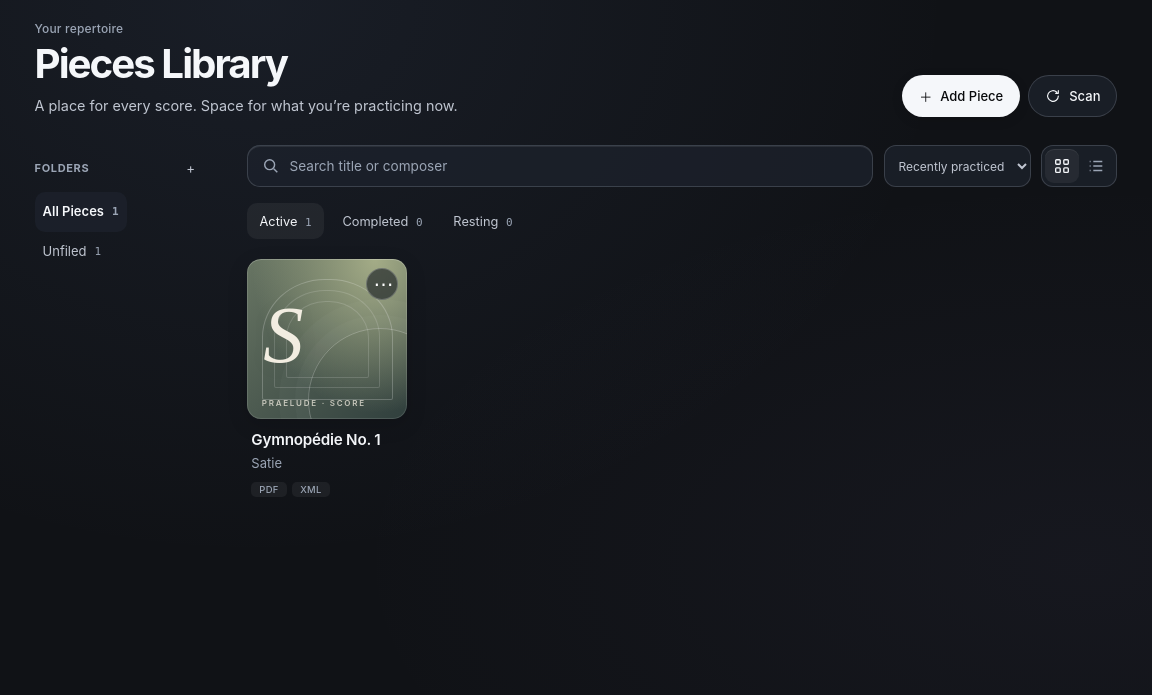
PiecesPanel › shows summary + block form (not intake) for a piece with intake done
Expected: the text "Gymnopédie No. 1" is shown, [251,430,403,450]
Click the button with aria-label "Open Gymnopédie No. 1".
click(327, 381)  # box [247,260,407,503]
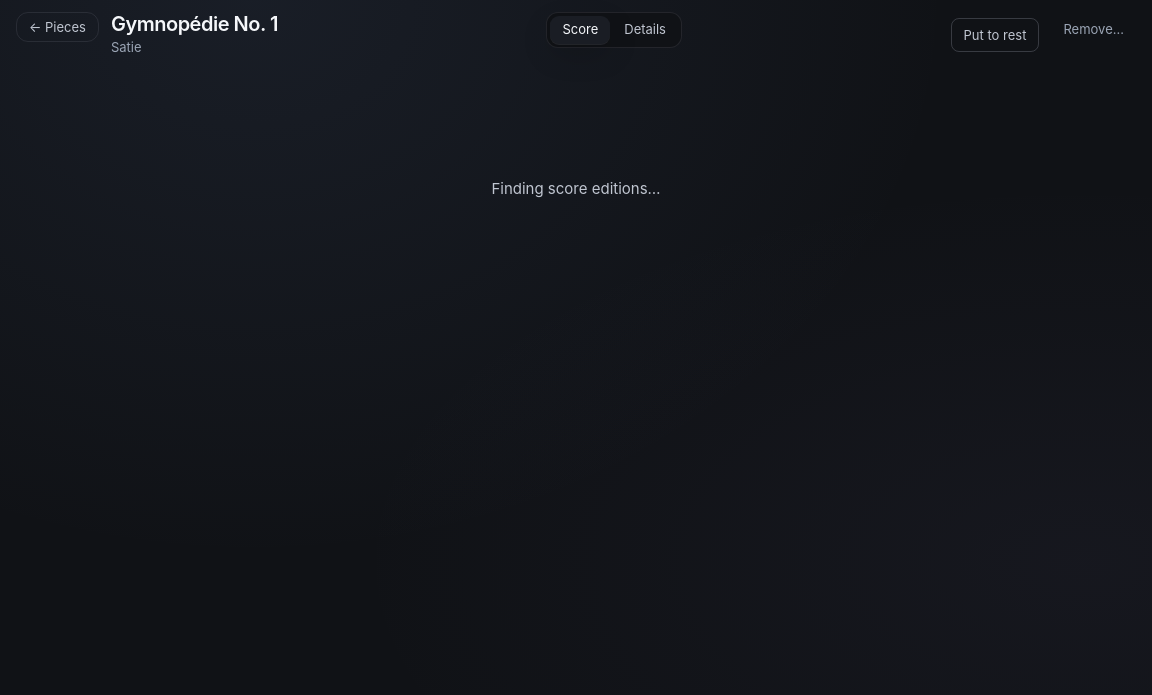
Click the tab "Details".
click(645, 30)  # box [612,16,678,44]
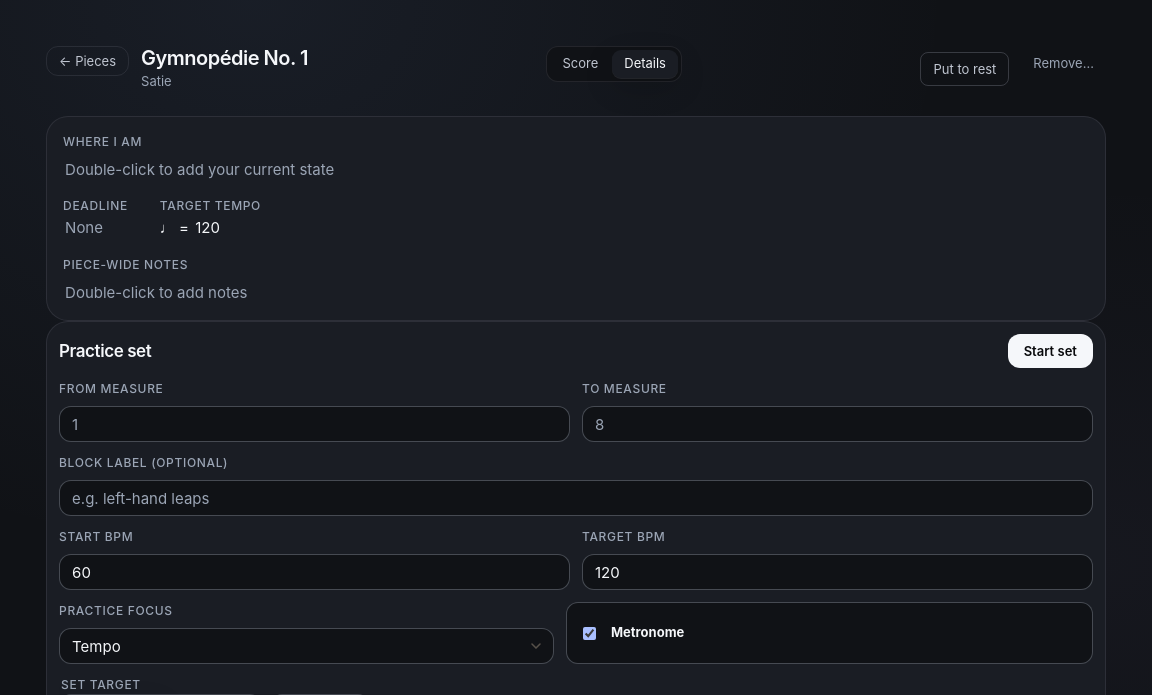
Now the button "Start set" is shown, box [1008,334,1093,368]
